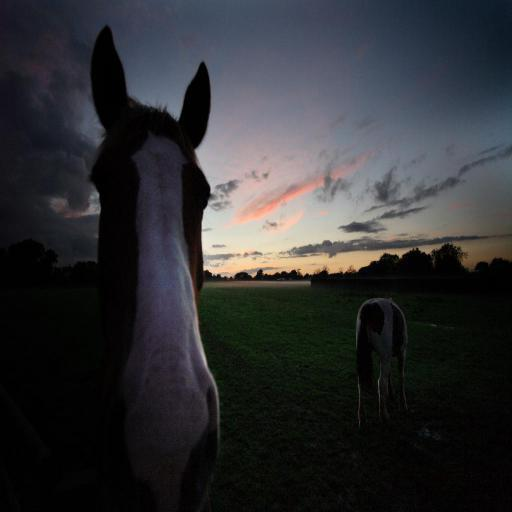horse: (80, 21, 230, 509), (354, 294, 410, 433)
